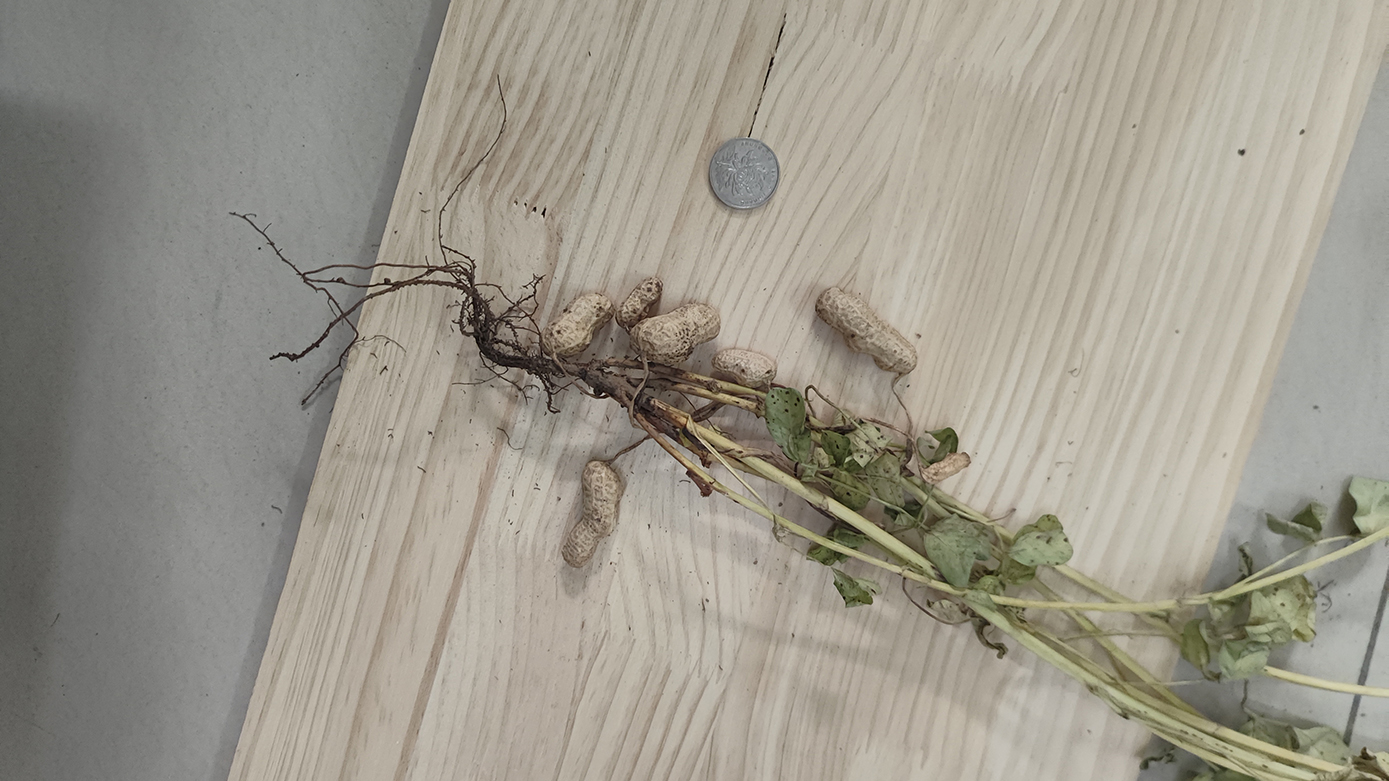h: (816, 287, 917, 375), (561, 460, 624, 568), (628, 301, 720, 365), (537, 291, 614, 363), (712, 347, 778, 387), (615, 277, 664, 329)
l: (920, 452, 972, 483)
